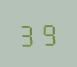nine: (38, 20, 56, 46)
three: (19, 20, 37, 47)
